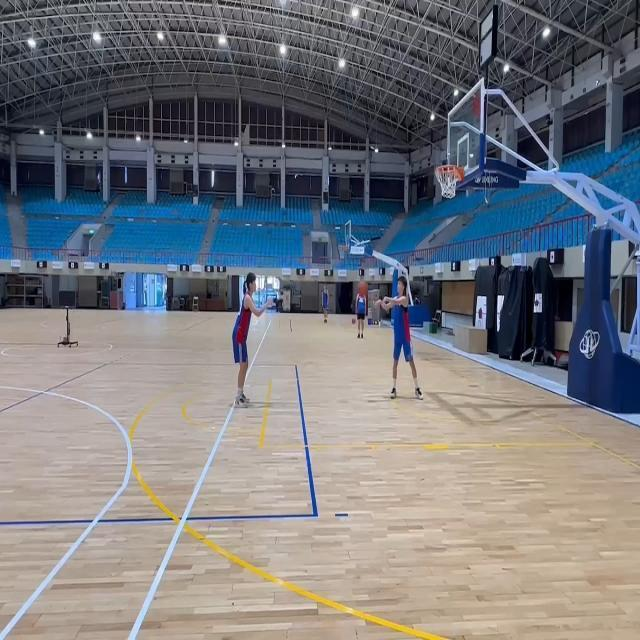Ball: (356, 278, 372, 302)
